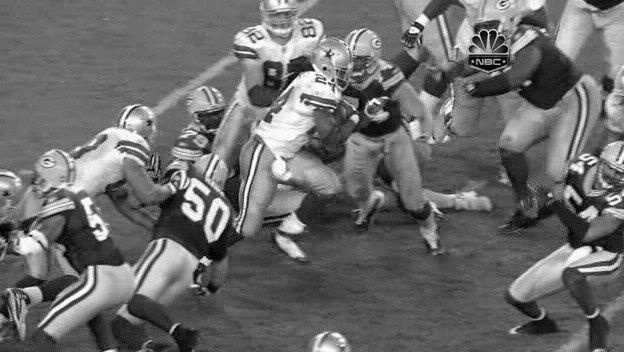person: (316, 40, 350, 84), (315, 40, 349, 84), (317, 40, 351, 84), (316, 39, 350, 83), (316, 41, 350, 85)
target_negative: (283, 54, 372, 229), (446, 137, 528, 290), (546, 33, 594, 244), (494, 216, 573, 341), (274, 51, 369, 94), (12, 260, 479, 265)
